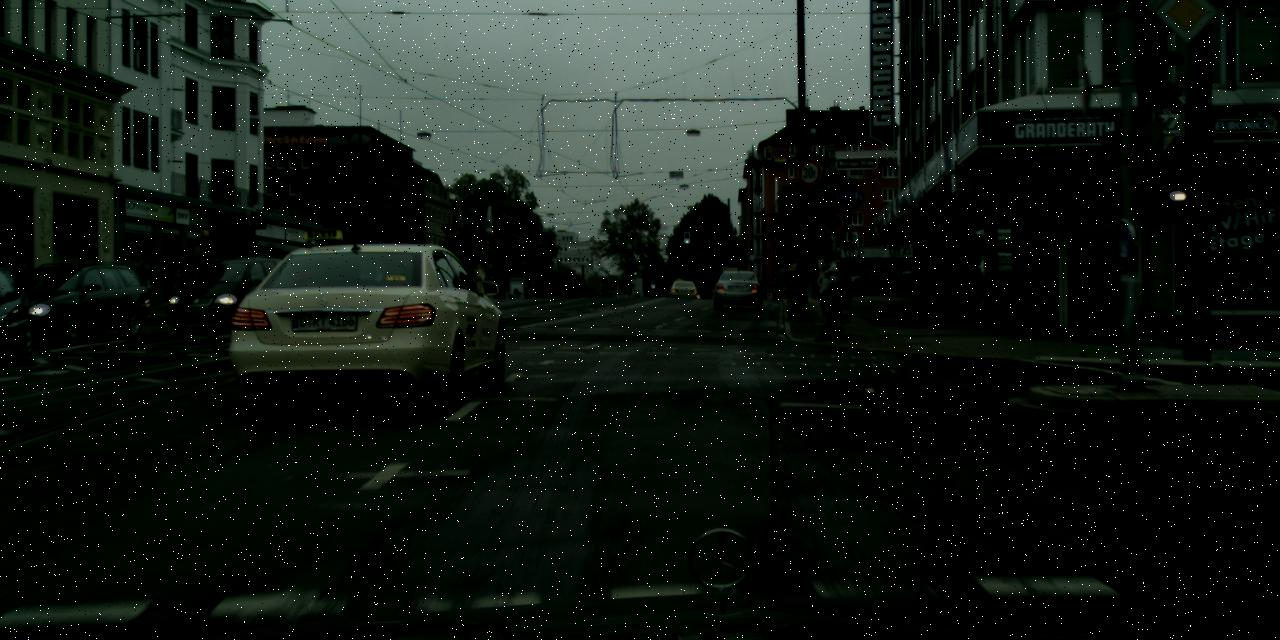ped: (810, 250, 846, 339), (812, 256, 846, 338), (828, 259, 849, 310), (12, 263, 30, 276), (4, 262, 11, 269)
